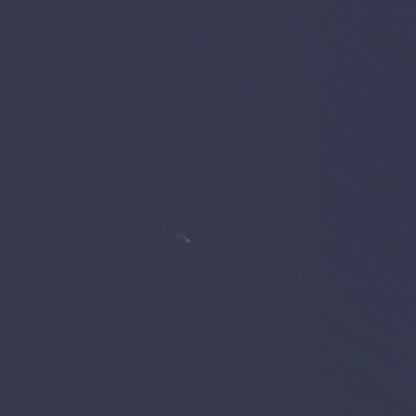ship: (180, 234, 194, 245)
